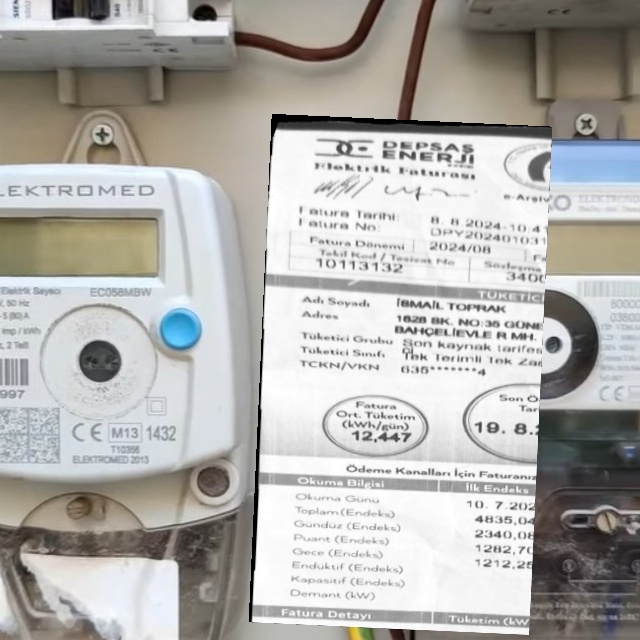electricity-bill: (248, 113, 552, 635)
